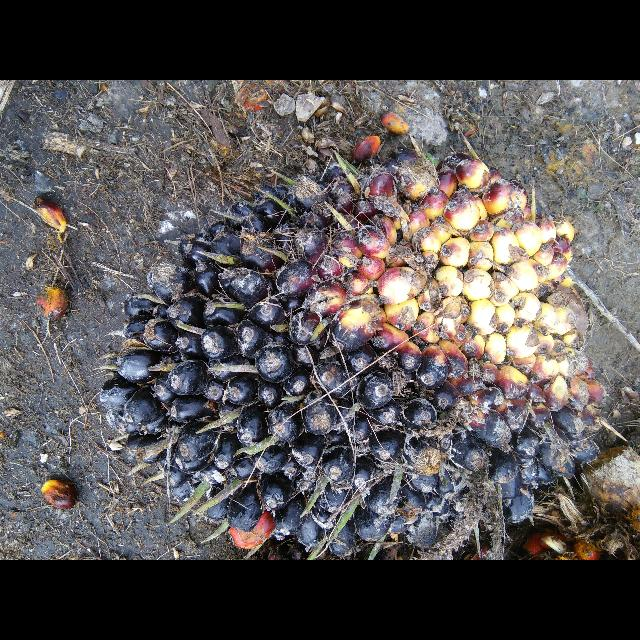Unripe: (94, 152, 610, 556)
